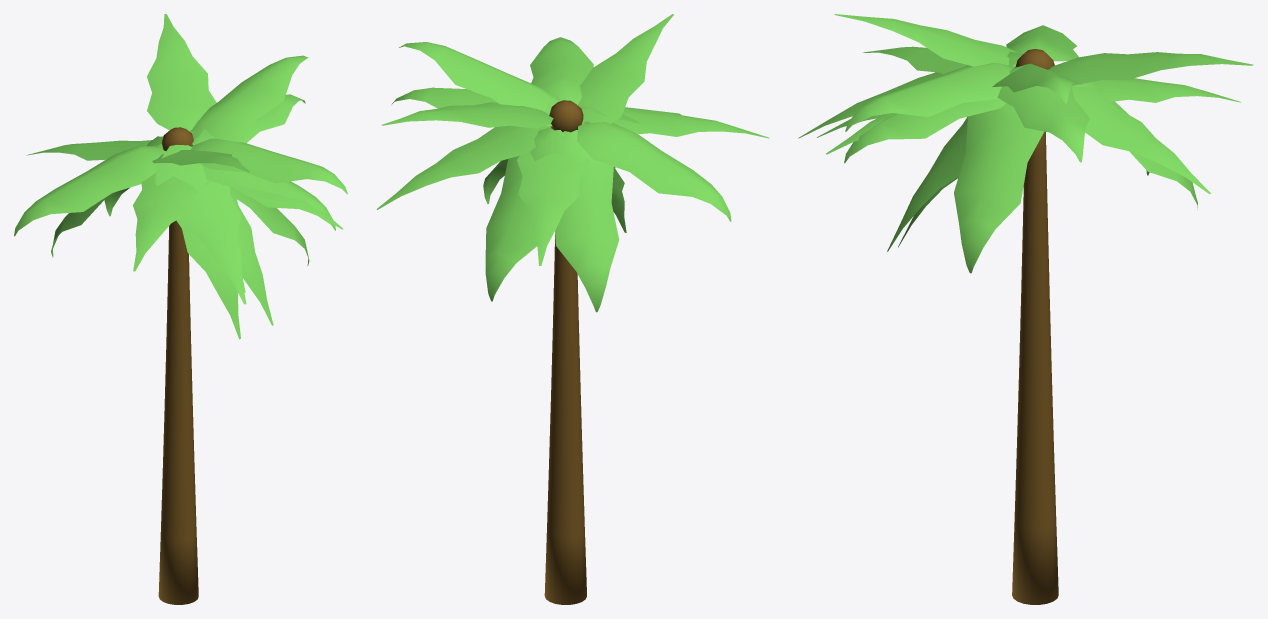
File: palm tree straight.fbx
3 views of the same model, side by side, from view 1: azimuth 30°, elevation 25°; view 2: azimuth 150°, elevation 25°; view 3: azimuth 270°, elevation 25° (orthographic). The views are drawn at different scales.
Parts seen in each view (by area): view 1: Trunk, LeafEmit|Plane|Dupli|3, LeafEmit|Plane|Dupli|8, LeafEmit|Plane.001|Dupli|, LeafEmit|Plane.001|Dupli|10, LeafEmit|Plane.001|Dupli|16, LeafEmit|Plane|Dupli|1, LeafEmit|Plane.001|Dupli|17, LeafEmit|Plane|Dupli|14, LeafEmit|Plane|Dupli|13, LeafEmit|Plane.001|Dupli|12, LeafEmit|Plane|Dupli|6 (+5 smaller); view 2: Trunk, LeafEmit|Plane.001|Dupli|5, LeafEmit|Plane.001|Dupli|, LeafEmit|Plane.001|Dupli|7, LeafEmit|Plane|Dupli|6, LeafEmit|Plane|Dupli|4, LeafEmit|Plane.001|Dupli|10, LeafEmit|Plane|Dupli|9, LeafEmit|Plane.001|Dupli|16, LeafEmit|Plane|Dupli|8, LeafEmit|Plane|Dupli|1, LeafEmit|Plane.001|Dupli|11 (+2 smaller); view 3: Trunk, LeafEmit|Plane.001|Dupli|12, LeafEmit|Plane.001|Dupli|16, LeafEmit|Plane|Dupli|9, LeafEmit|Plane.001|Dupli|11, LeafEmit|Plane|Dupli|8, LeafEmit|Plane|Dupli|4, LeafEmit|Plane.001|Dupli|17, LeafEmit|Plane|Dupli|13, LeafEmit|Plane|Dupli|6, LeafEmit|Plane.001|Dupli|, LeafEmit|Plane.001|Dupli|10 (+3 smaller).
Boxes of the visible parts, x1,y1,x2,y2 form: Trunk: (158,220,198,604); LeafEmit|Plane|Dupli|3: (155,144,246,304); LeafEmit|Plane|Dupli|8: (147,14,216,131); LeafEmit|Plane.001|Dupli|: (14,145,165,236); LeafEmit|Plane.001|Dupli|10: (190,55,308,142); LeafEmit|Plane.001|Dupli|16: (191,138,347,194); LeafEmit|Plane|Dupli|1: (133,173,209,271); LeafEmit|Plane.001|Dupli|17: (202,165,335,230); LeafEmit|Plane|Dupli|14: (176,219,240,339); LeafEmit|Plane|Dupli|13: (230,195,273,325); LeafEmit|Plane.001|Dupli|12: (230,187,309,265); LeafEmit|Plane|Dupli|6: (27,140,163,160); Trunk: (544,235,586,604); LeafEmit|Plane.001|Dupli|5: (555,130,619,312); LeafEmit|Plane.001|Dupli|: (577,121,731,221); LeafEmit|Plane.001|Dupli|7: (485,127,565,301); LeafEmit|Plane|Dupli|6: (517,152,589,265); LeafEmit|Plane|Dupli|4: (577,14,673,130); LeafEmit|Plane.001|Dupli|10: (399,42,557,126); LeafEmit|Plane|Dupli|9: (376,125,551,209); LeafEmit|Plane.001|Dupli|16: (530,37,593,104); LeafEmit|Plane|Dupli|8: (382,102,553,128); LeafEmit|Plane|Dupli|1: (613,108,769,138); LeafEmit|Plane.001|Dupli|11: (391,87,561,114); Trunk: (1012,131,1058,604); LeafEmit|Plane.001|Dupli|12: (954,103,1044,273); LeafEmit|Plane.001|Dupli|16: (845,63,1015,131); LeafEmit|Plane|Dupli|9: (1071,86,1210,194); LeafEmit|Plane.001|Dupli|11: (997,65,1089,162); LeafEmit|Plane|Dupli|8: (1048,52,1253,85); LeafEmit|Plane|Dupli|4: (834,14,1017,66); LeafEmit|Plane.001|Dupli|17: (844,99,1006,163); LeafEmit|Plane|Dupli|13: (887,117,967,251); LeafEmit|Plane|Dupli|6: (1091,78,1240,102); LeafEmit|Plane.001|Dupli|: (1006,25,1078,61); LeafEmit|Plane.001|Dupli|10: (992,63,1081,103).
Size of the model in its own units: 272 by 424 by 300.
